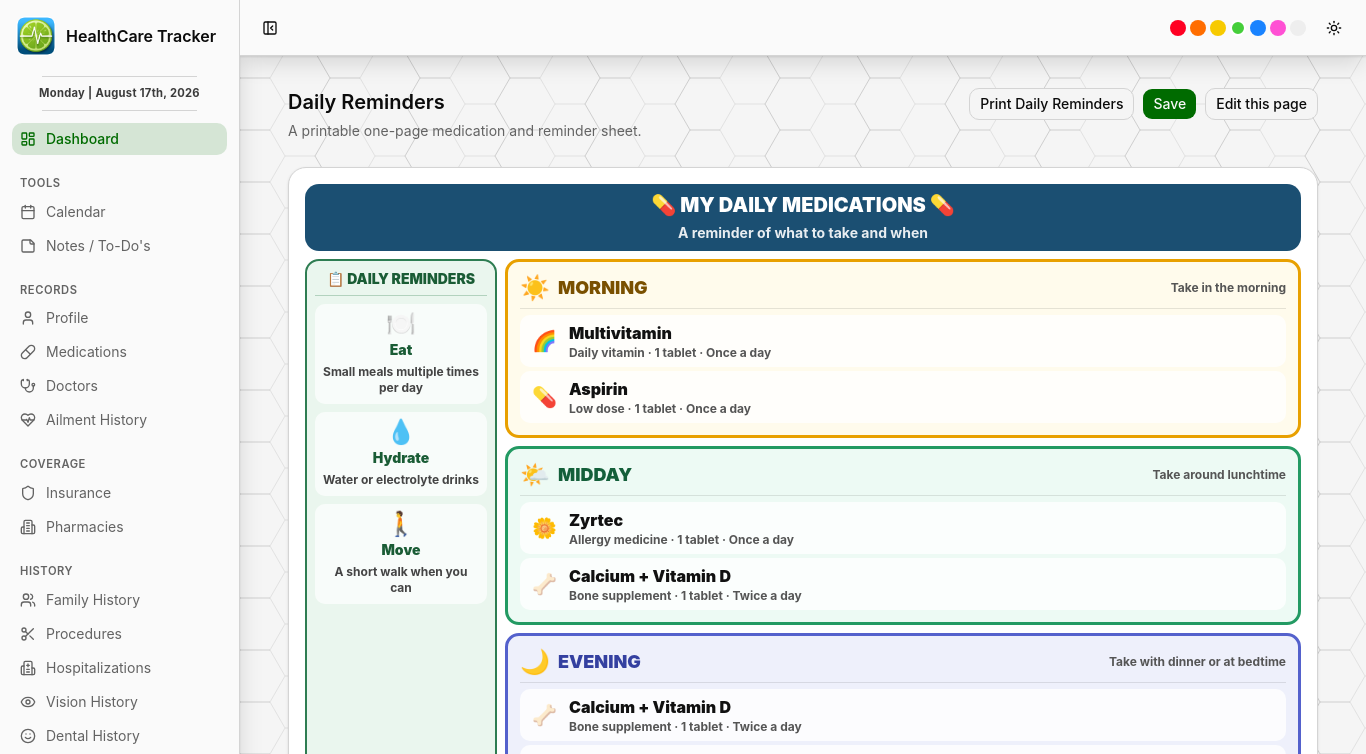
Test: RemindersPage › keeps edits and shows an error when saving fails
The image size is (1366, 754).
Expected: the text "MY DAILY MEDICATIONS" is shown, [680,193,926,217]
Click the button "Save": (1170, 104) [1142,88,1197,120]
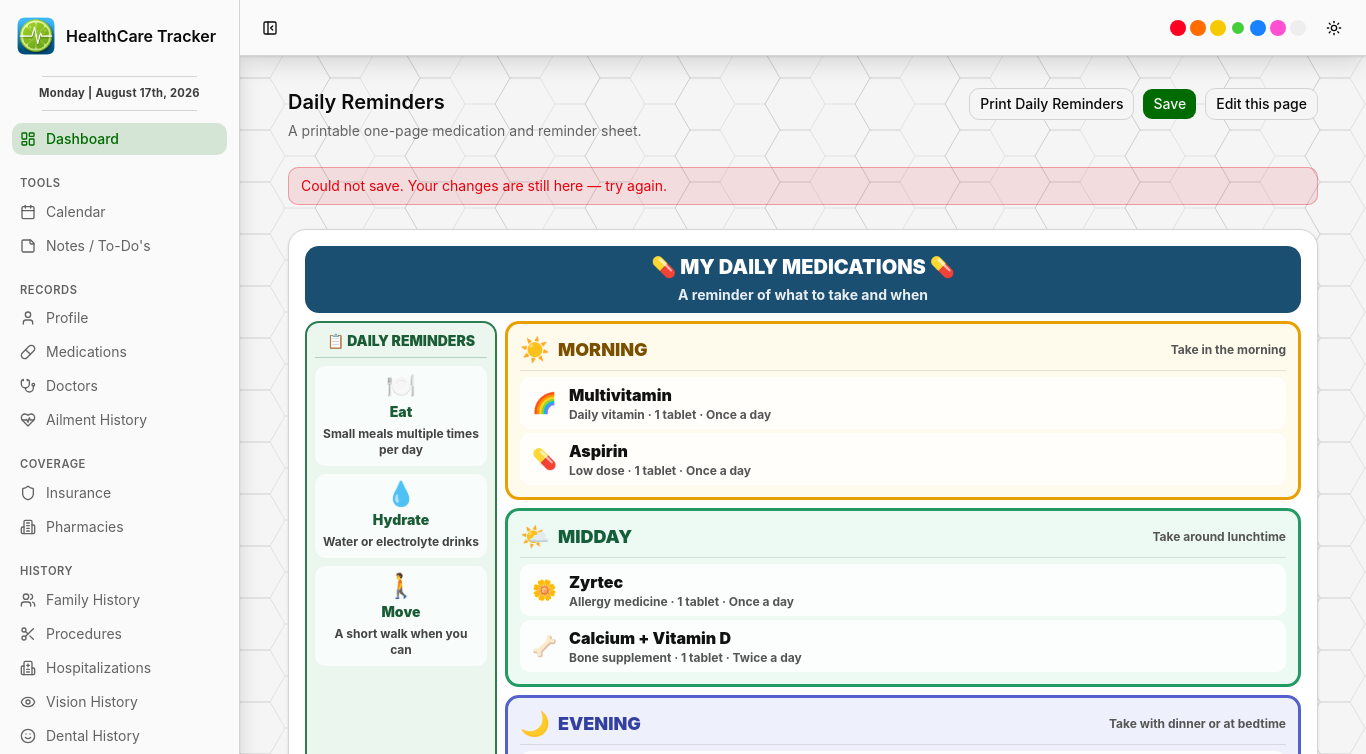
Expected: the text "MY DAILY MEDICATIONS" is shown, [680,255,926,279]
Result: the message "Could not save. Your changes are still here — try again." is shown at [288,167,1318,205]
